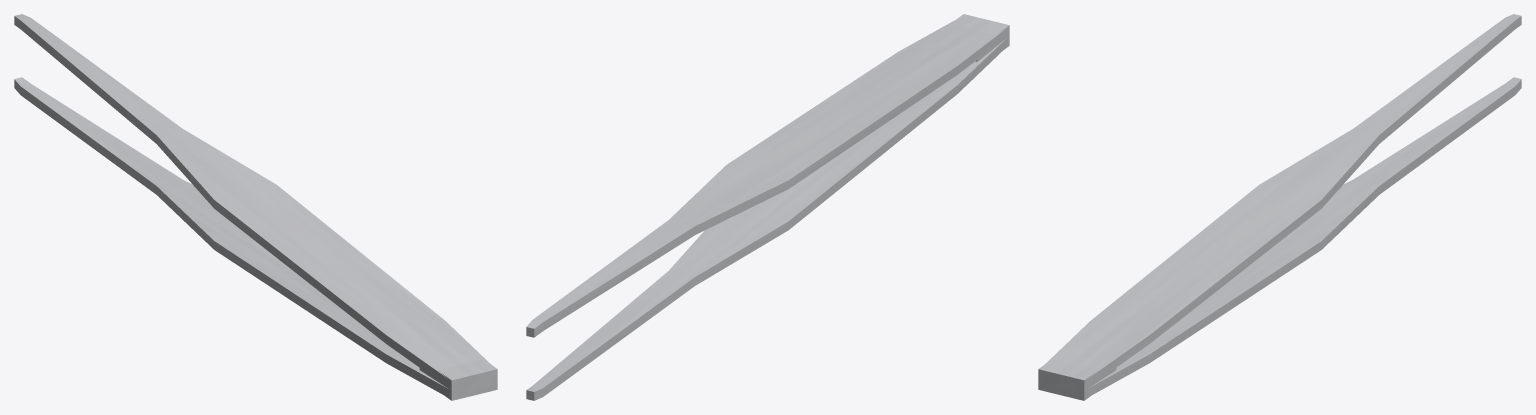
The model's file is adson_forceps.glb.
3 renders of one model, left to right at view 1: azimuth 30°, elevation 25°; view 2: azimuth 150°, elevation 25°; view 3: azimuth 330°, elevation 25°, orthographic.
Parts seen in each view (by area): view 1: s4_adson_forceps; view 2: s4_adson_forceps; view 3: s4_adson_forceps.
Boxes of the visible parts, x1,y1,x2,y2 form: s4_adson_forceps: (14, 14, 497, 400); s4_adson_forceps: (526, 14, 1009, 400); s4_adson_forceps: (1038, 14, 1521, 400).
Bounding box in the file's own units: 0.0095 × 0.0109 × 0.1205.
Materials: 1 (1 with a texture image).
